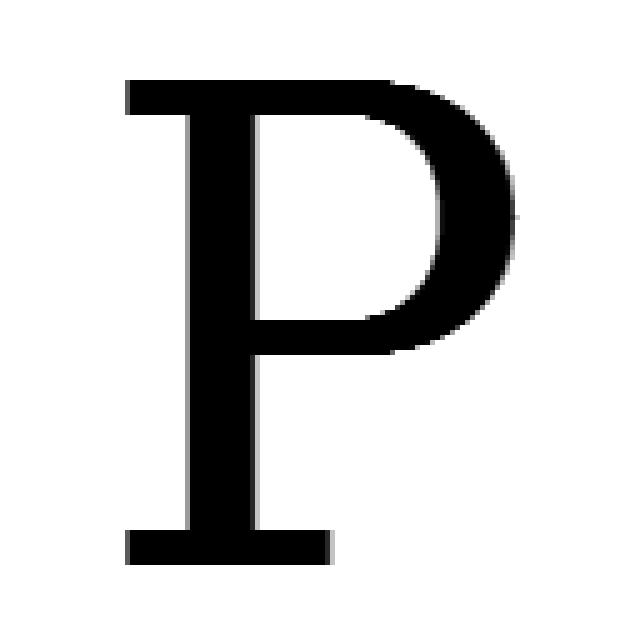P: (125, 80, 515, 565)
